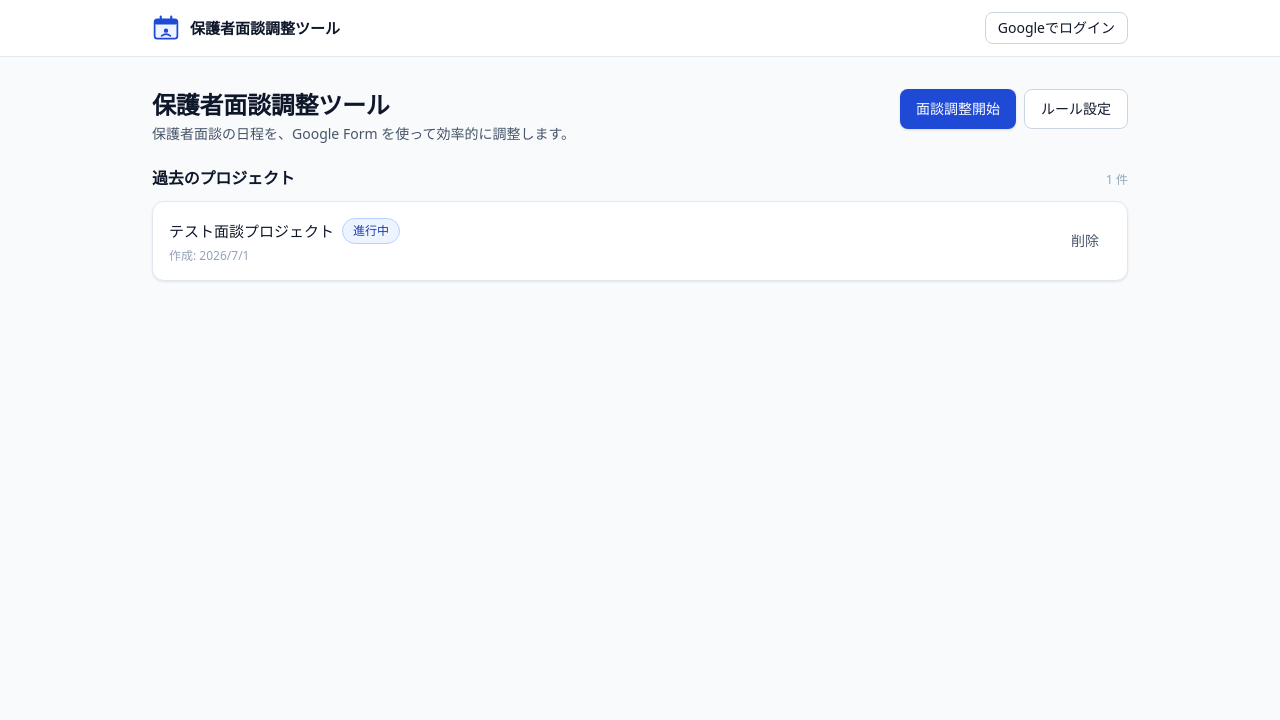
Test: HomePage › 「キャンセル」押下で削除されずダイアログが閉じる
Click the button "削除". click: (1085, 241)
box: [1059,225,1111,257]
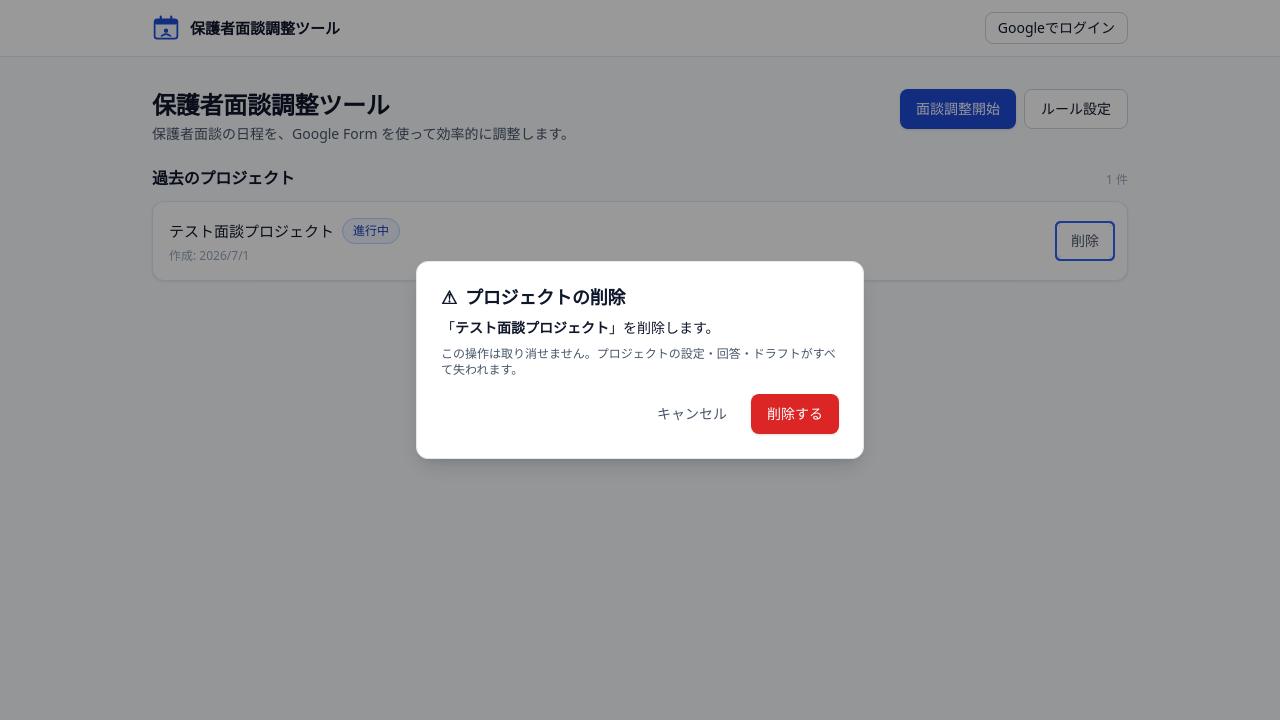
Expected: the dialog with test id "delete-confirm-dialog" is shown, [416,261,864,459]
Click the button with test id "delete-cancel-button". click: (692, 414)
box: [641,394,743,434]
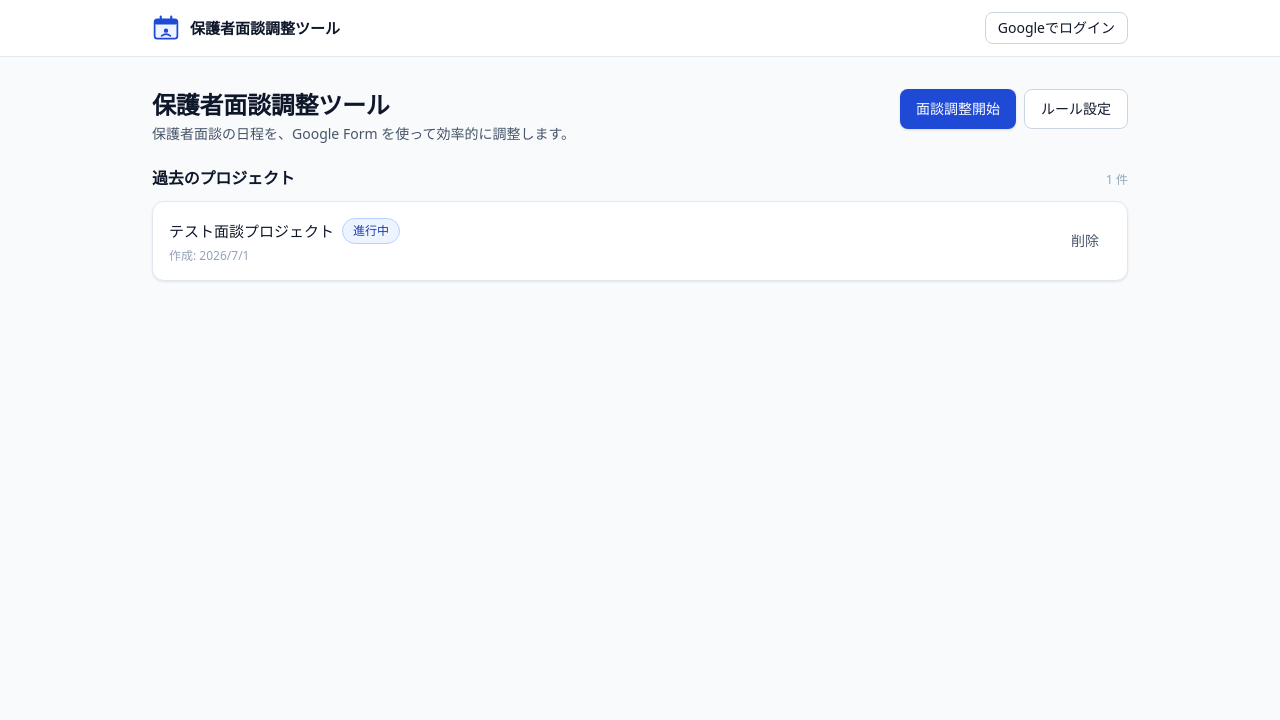
Expected: the dialog with test id "delete-confirm-dialog" is gone
